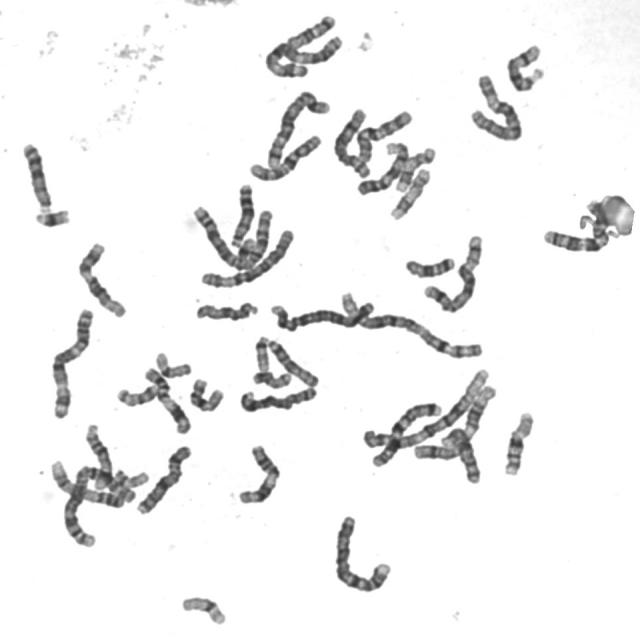A1: (361, 366, 496, 464), (334, 289, 487, 361)
A2: (58, 461, 133, 549), (188, 200, 272, 272)
A3: (46, 304, 96, 421), (261, 29, 347, 79)
B4: (330, 510, 394, 595), (269, 300, 373, 334)
B5: (262, 86, 333, 172), (421, 230, 486, 314)
C10: (245, 130, 324, 183), (352, 105, 415, 165)
C11: (141, 363, 194, 436), (234, 440, 282, 507)
C12: (75, 238, 129, 320), (438, 381, 498, 452)
C6: (198, 225, 298, 289), (467, 70, 525, 144)
C7: (367, 398, 443, 469), (540, 209, 616, 254)
C8: (331, 104, 373, 179), (236, 382, 319, 415)
C9: (45, 457, 130, 510), (353, 137, 412, 197)
D13: (18, 138, 56, 212), (228, 179, 257, 248)
D14: (81, 419, 116, 493), (503, 40, 548, 94)
D15: (263, 335, 322, 390), (192, 297, 261, 323)
E16: (500, 407, 537, 477), (186, 374, 226, 414)
E17: (387, 164, 433, 222), (391, 143, 438, 194)
E18: (285, 15, 336, 52), (402, 252, 457, 280)
F19: (178, 592, 229, 627), (151, 348, 194, 380)
F20: (113, 380, 162, 408), (248, 366, 294, 390)
G21: (31, 204, 72, 230), (237, 237, 257, 263)
G22: (109, 465, 153, 489), (251, 332, 272, 374)
X: (132, 441, 195, 516), (411, 439, 482, 486)
